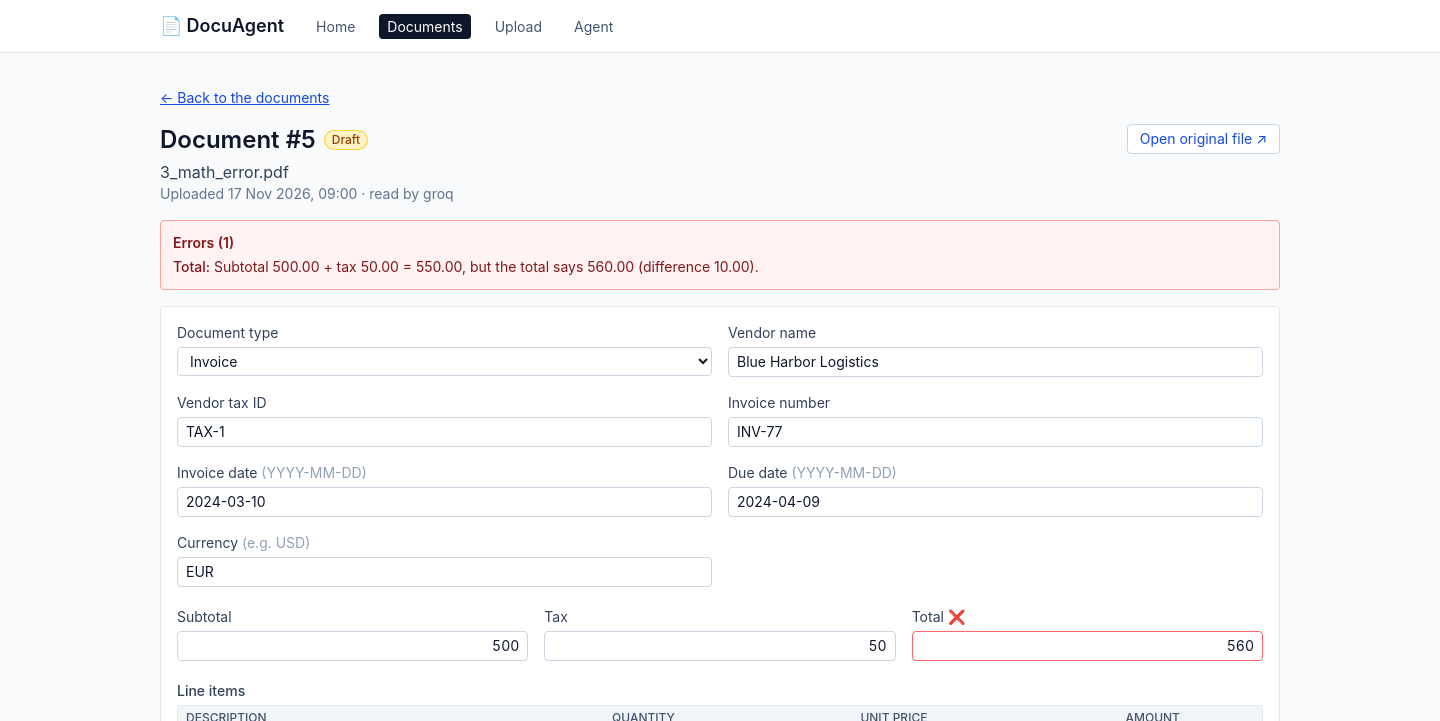
Test: Document detail page › editing and saving › sends only the changed fields, with the edited line items, and shows the re-validated issues
The image size is (1440, 721).
Expected: the heading "Document #5 Draft" is shown, 160,125 -> 368,154
Clear the field labelled "Vendor name": (996,362) 728,347 -> 1263,377
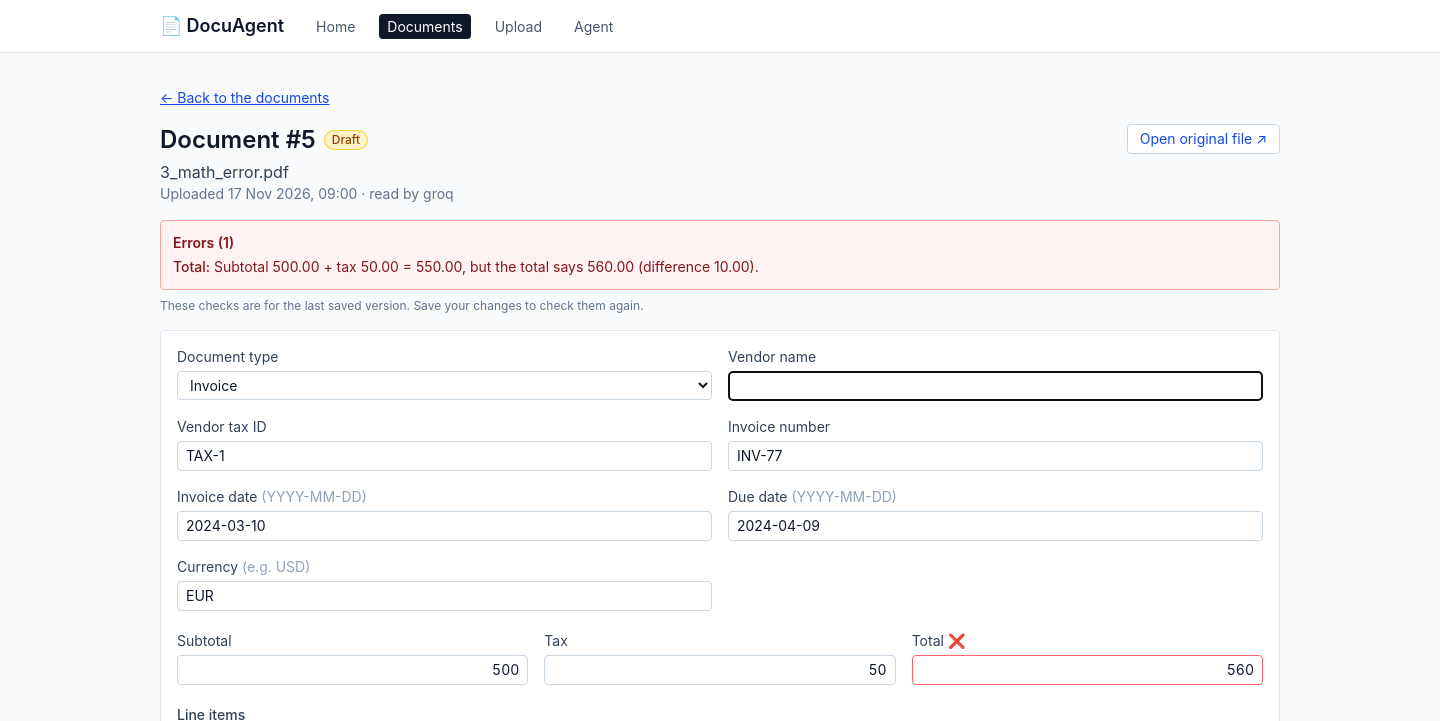
In the field labelled "Vendor name": (996,386) 728,371 -> 1263,401, type "Blue Harbor Ltd"
Replace the text in the field labelled "Total ❌" with "1,250.50": (1087,670) 912,655 -> 1263,685
(page scrolled)
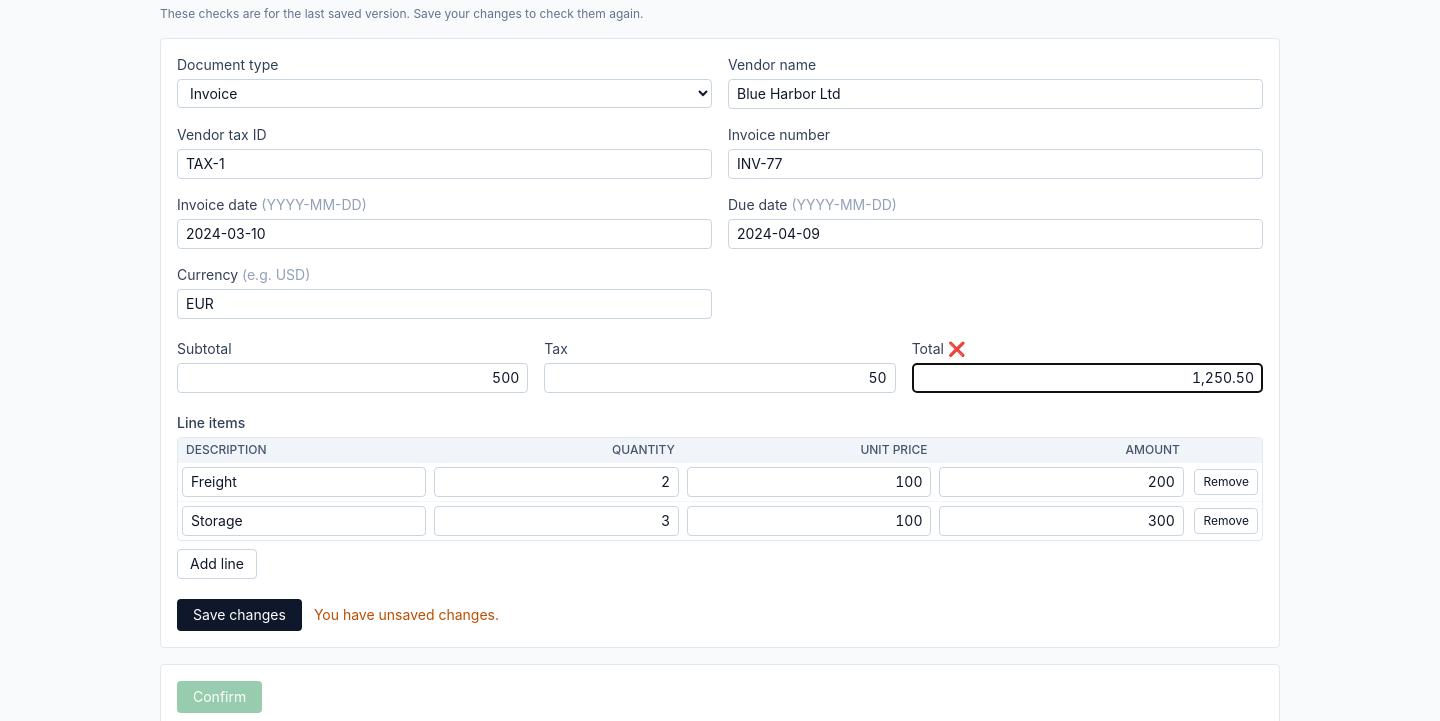
Replace the text in the field named "Line 2 amount" with "350": (1062,521) 940,506 -> 1184,536
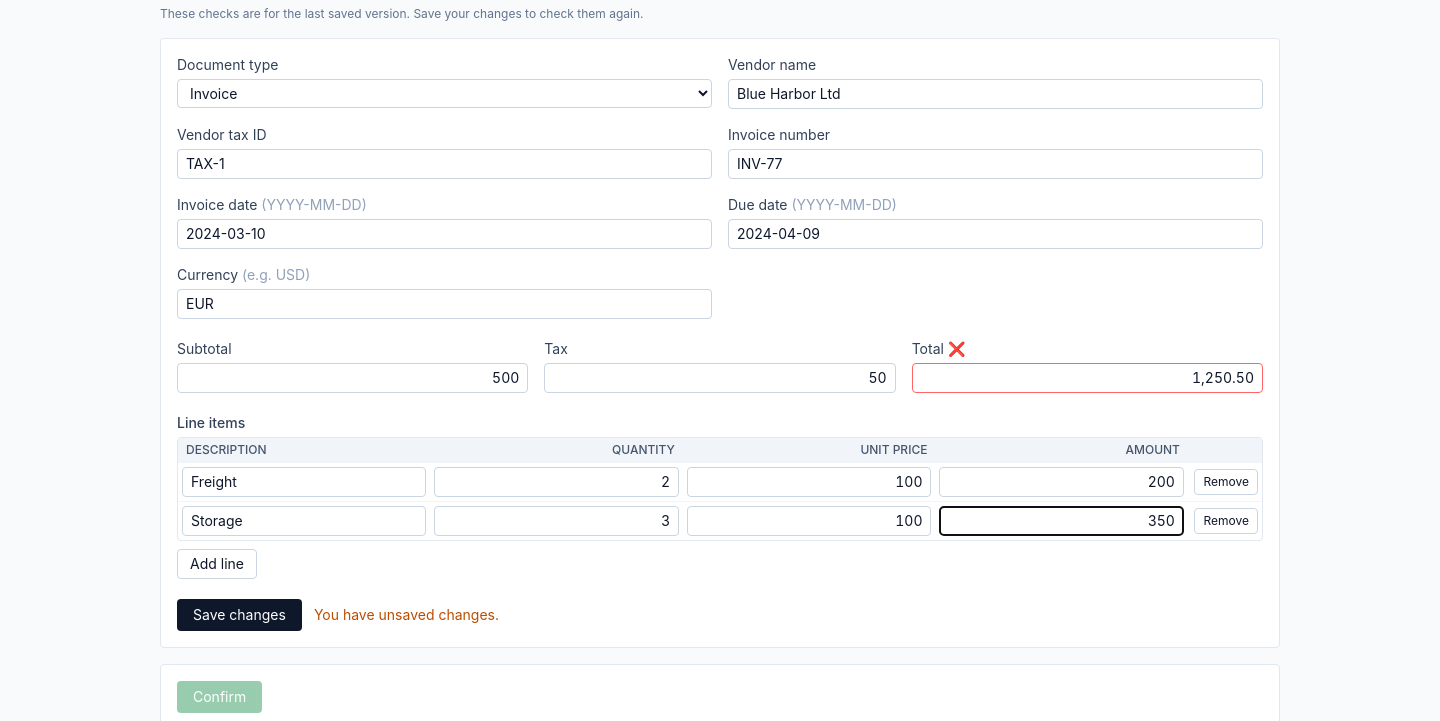
Click the button "Add line": (217,564) 177,549 -> 257,579
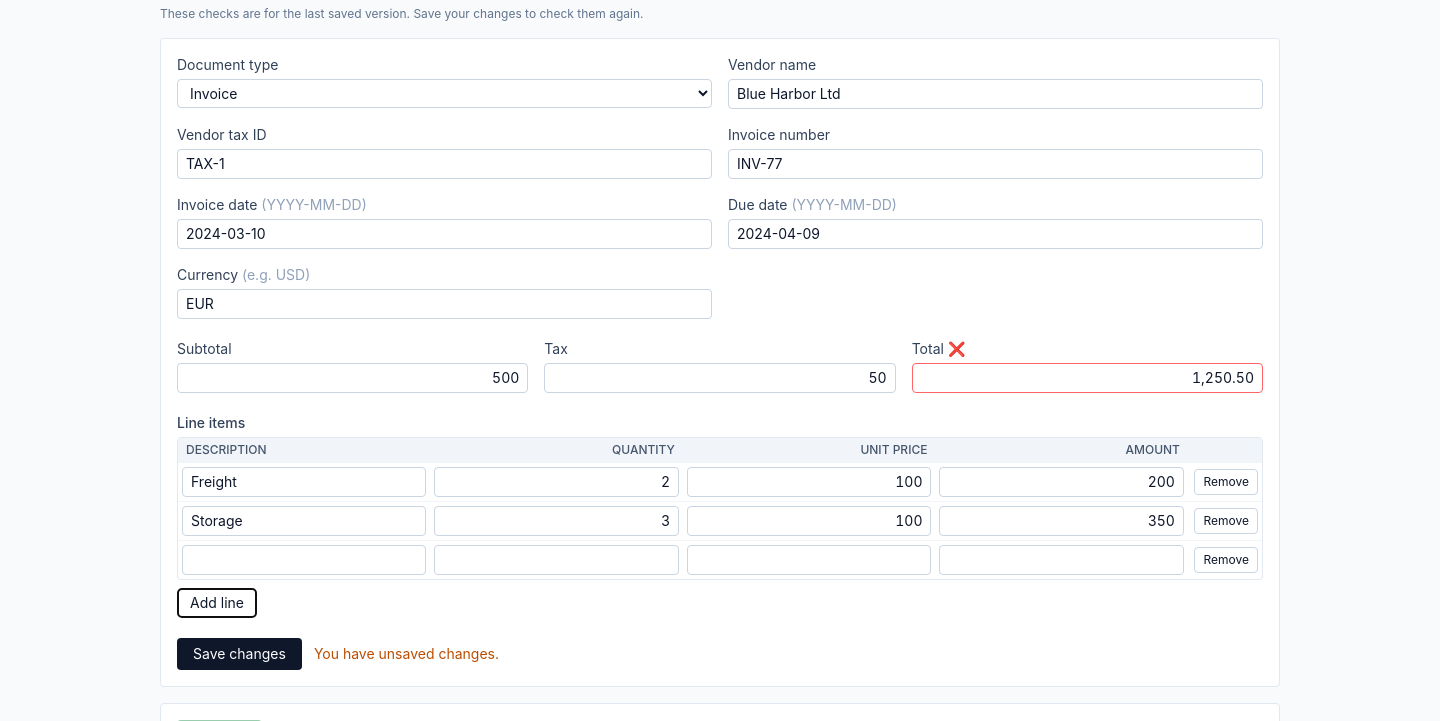
In the field named "Line 3 description": (304,560) 182,545 -> 426,575, type "Handling"
In the field named "Line 3 amount": (1062,560) 940,545 -> 1184,575, type "40"
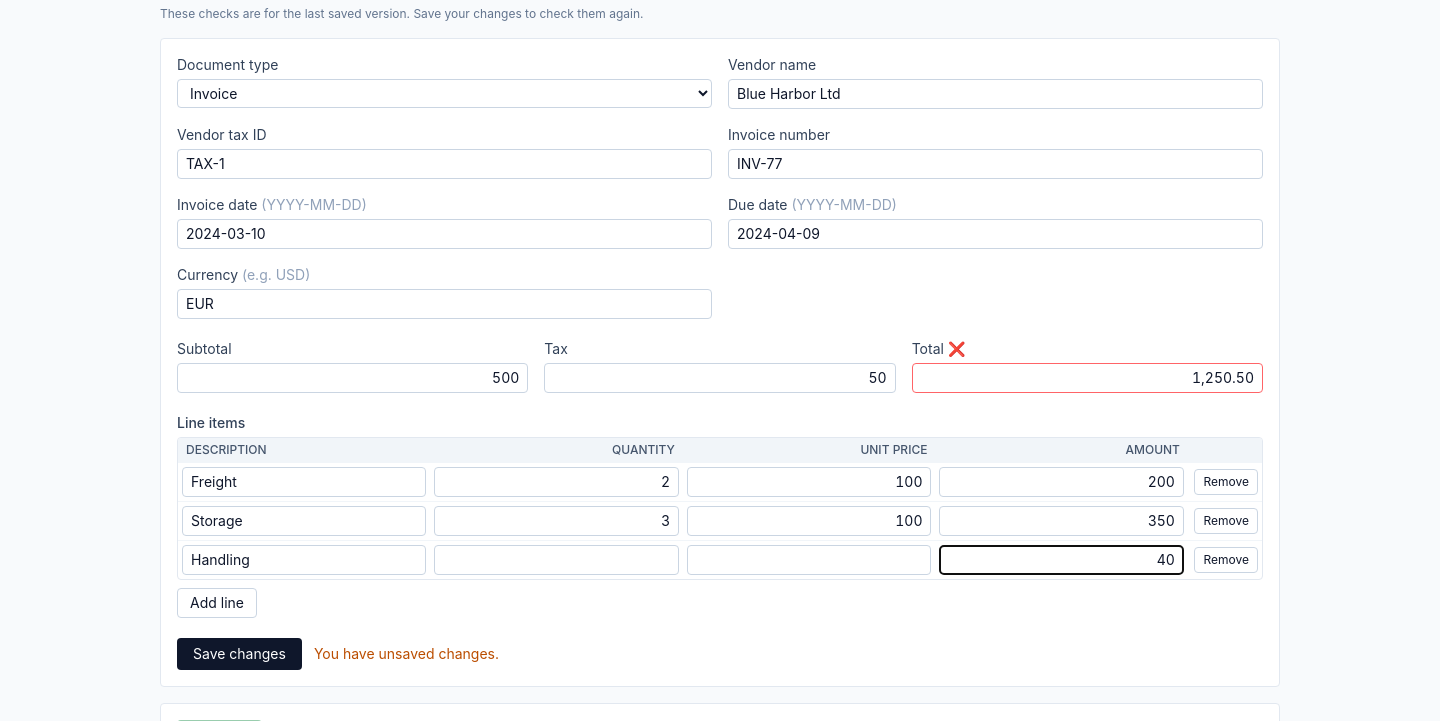
Expected: the text "You have unsaved changes." is shown, 314,644 -> 499,664
Click the button "Save changes": (239,654) 177,638 -> 302,670
(page scrolled)
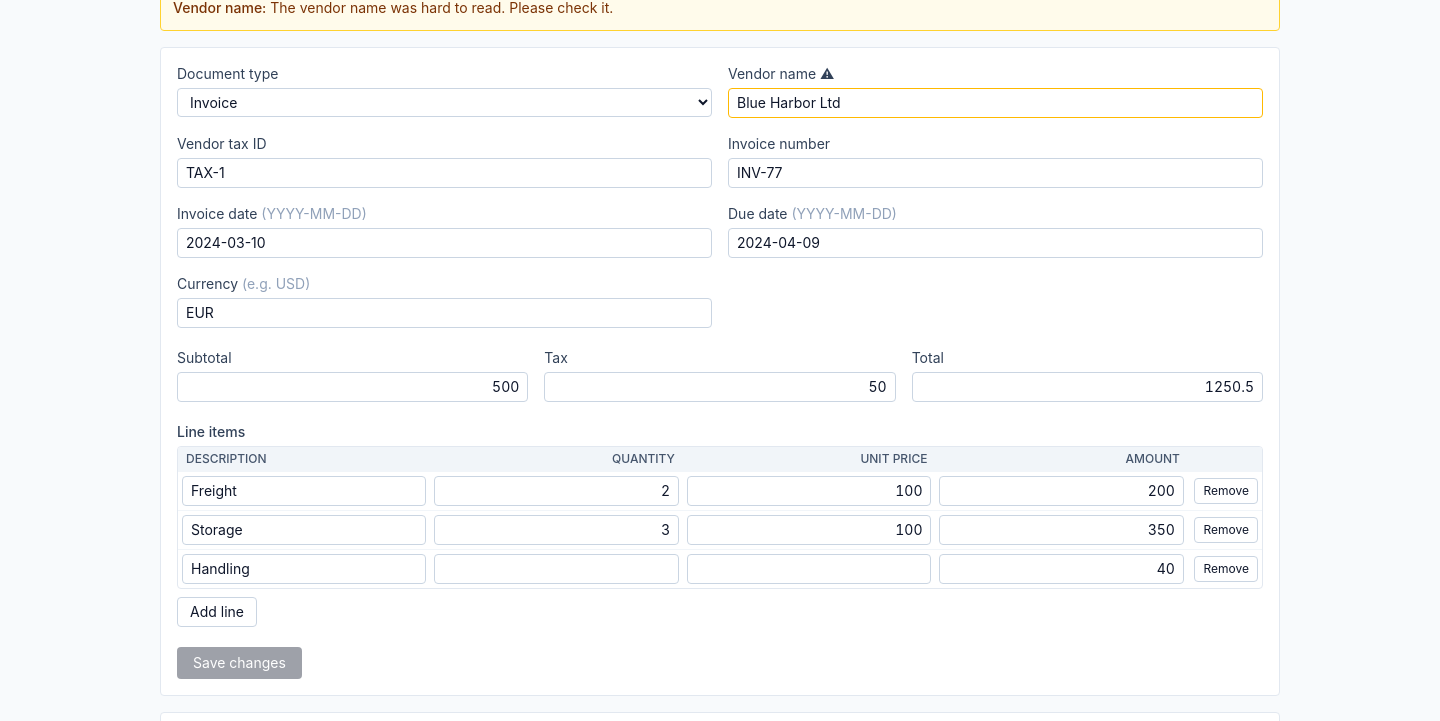
Expected: the element "Warnings" shows "Vendor name", 173,0 -> 262,16
Expected: the text "You have unsaved changes." is gone
Expected: the button "Save changes" is disabled, 177,647 -> 302,679
